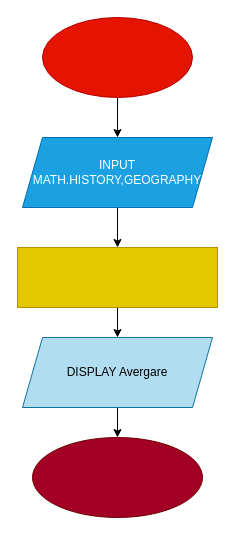
The diagram is 235 pixels wide and 535 high, and some of its shapes have lost their labels. Here are the shapes that lost their labels. From the top down, the box of each, then its label:
(42, 16, 192, 98): START
(16, 246, 218, 308): Avergare=(MATH+HISTORY+GEOGRAPGY)
